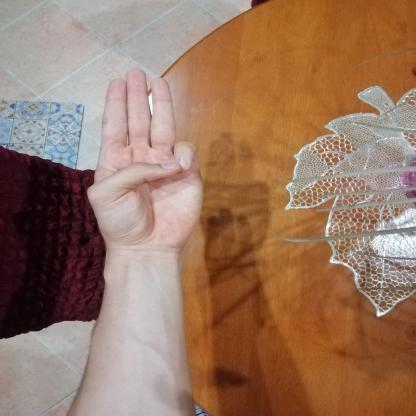THA: (75, 58, 215, 261)
